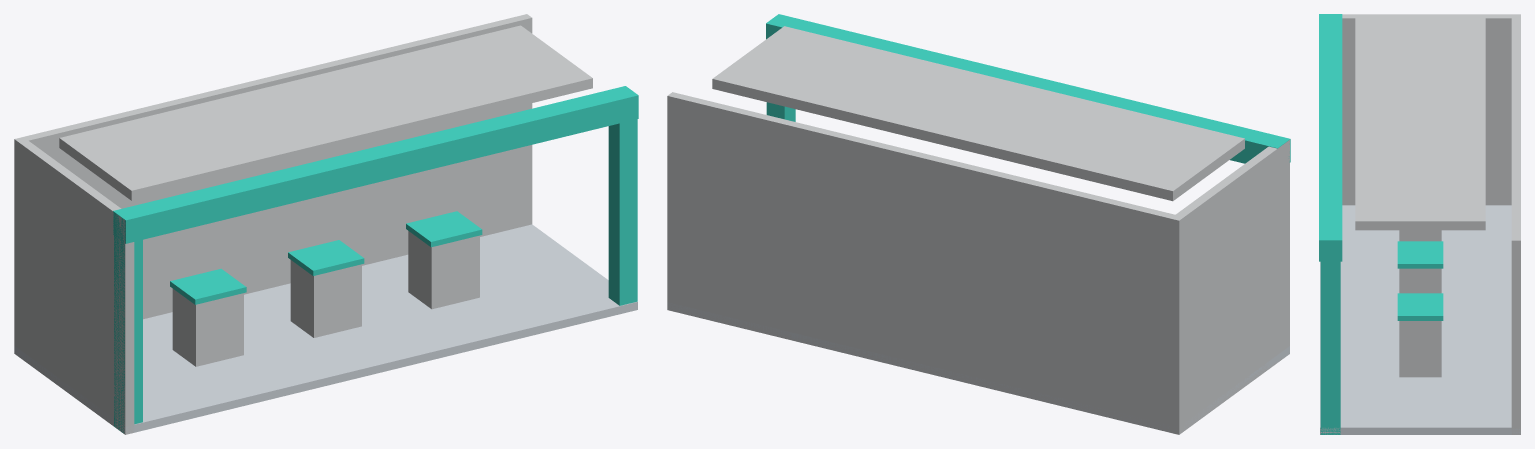
3 renders of one model, left to right at view 1: azimuth 30°, elevation 25°; view 2: azimuth 150°, elevation 25°; view 3: azimuth 270°, elevation 25°, orthographic. The views are drawn at different scales.
Parts seen in each view (by area): view 1: Exhibition Booth Concept; view 2: Exhibition Booth Concept; view 3: Exhibition Booth Concept.
Part boxes in pixels (x1,y1,x2,y2): Exhibition Booth Concept: [14, 14, 638, 434]; Exhibition Booth Concept: [667, 14, 1290, 434]; Exhibition Booth Concept: [1319, 14, 1520, 434].
Bounding box in the file's own units: 8 × 3.34 × 3.01.
